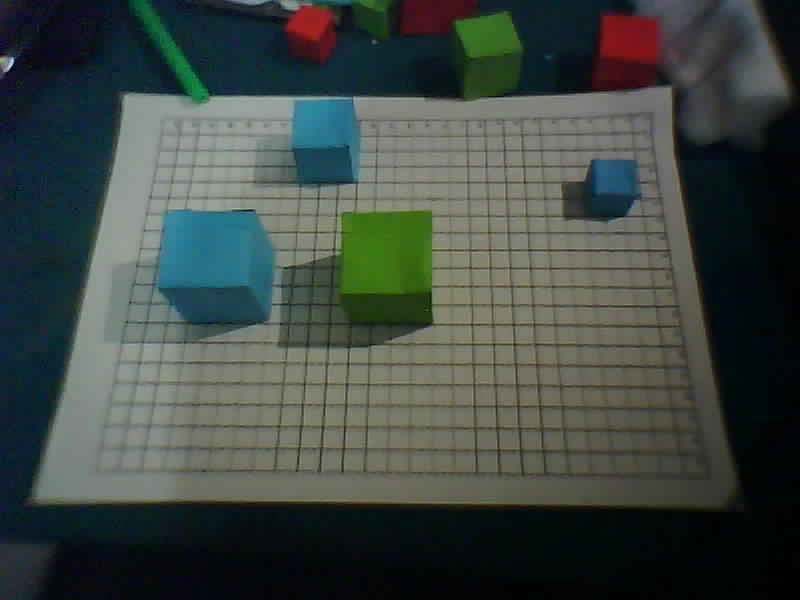LB: (92, 469, 100, 475)
LT: (160, 114, 168, 120)
RB: (704, 475, 712, 481)
RT: (647, 111, 655, 117)
